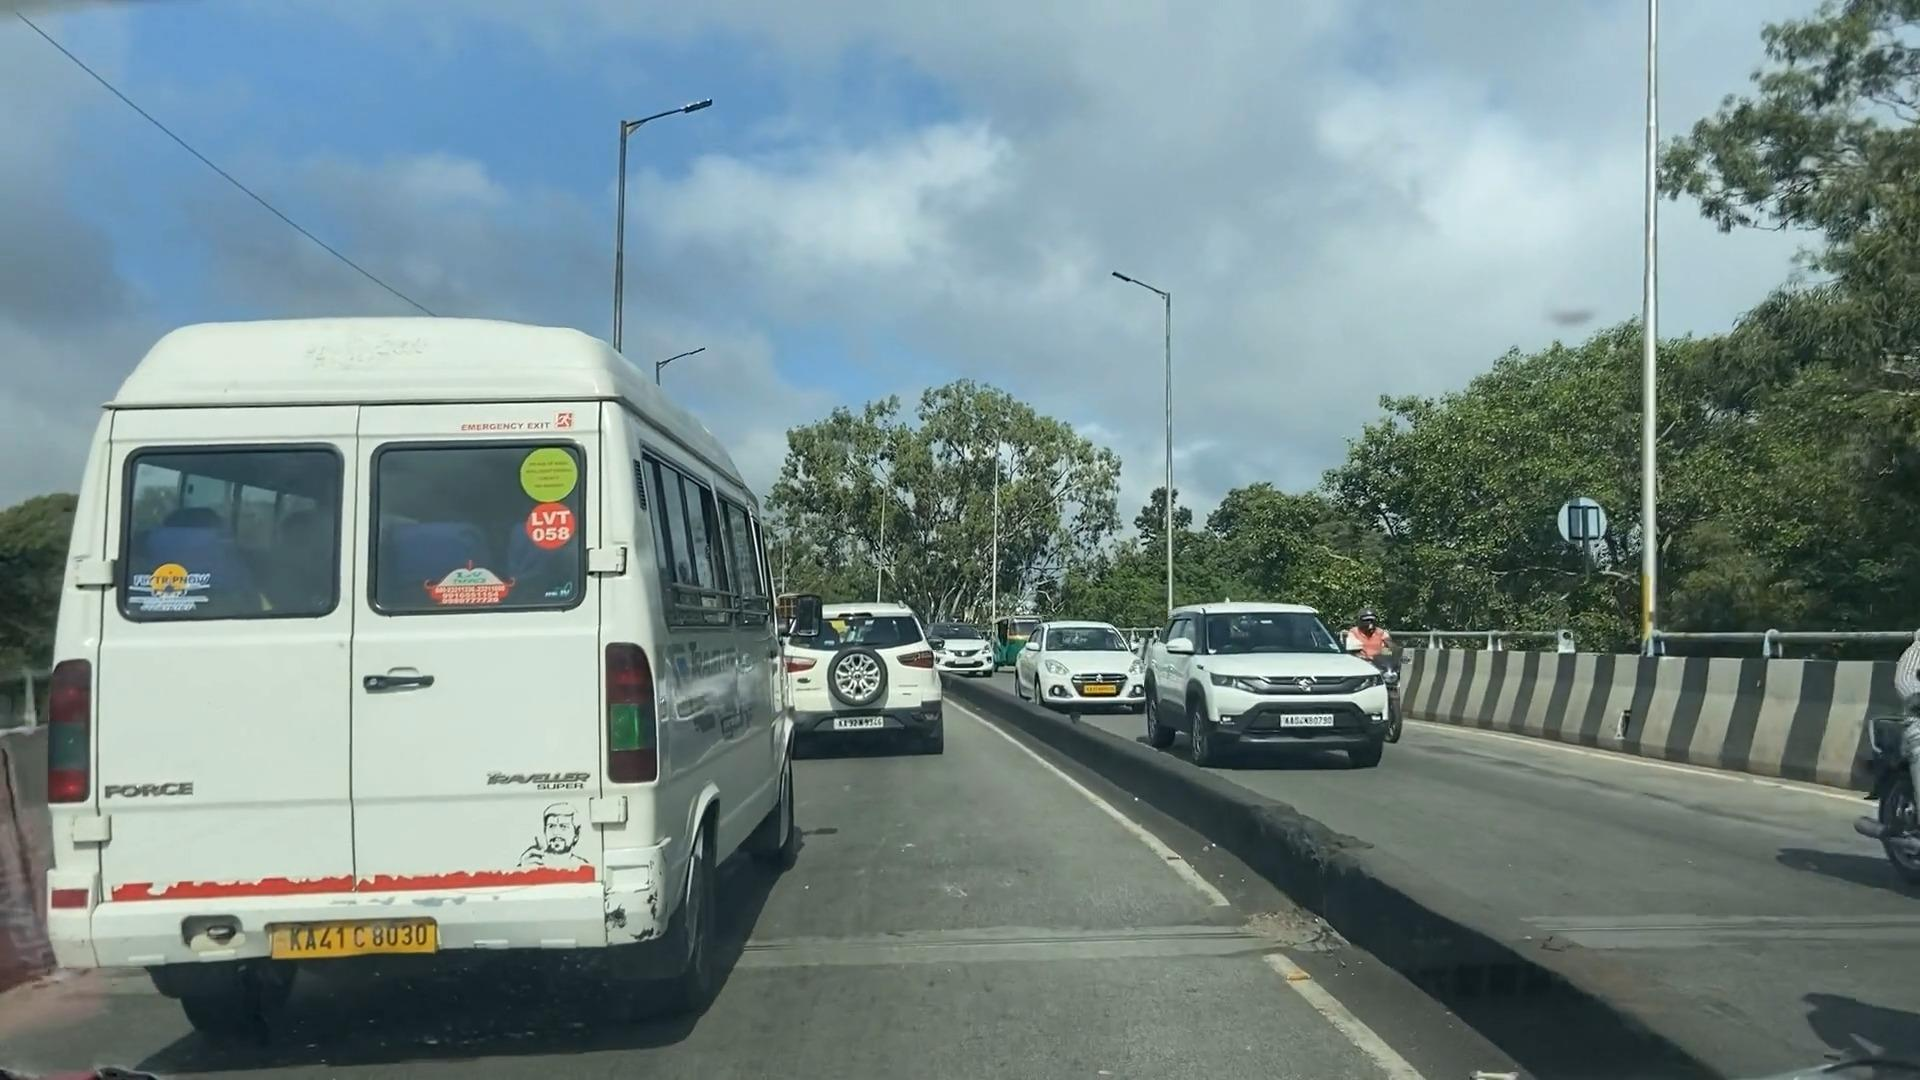HMV: (41, 319, 777, 1004)
LMV: (777, 605, 945, 745)
SpeedBump: (746, 902, 1323, 981)
